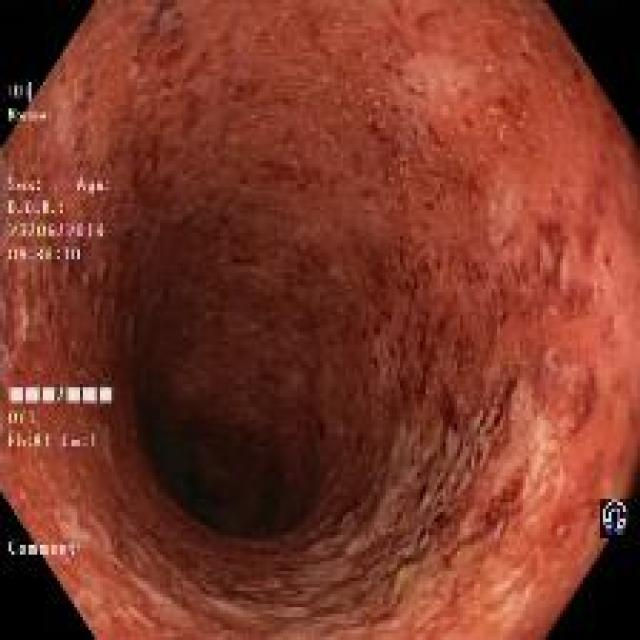ulcerative-colitis-grade-3: (1, 3, 640, 640)
